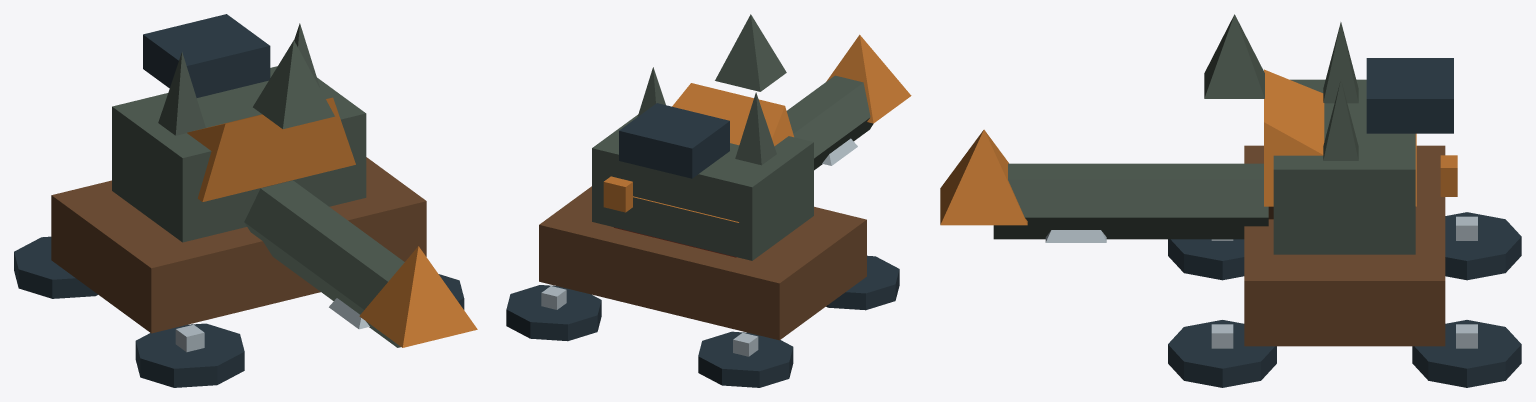
The model's file is battering-ram.obj.
3 views of the same model, side by side, from view 1: azimuth 30°, elevation 25°; view 2: azimuth 150°, elevation 25°; view 3: azimuth 270°, elevation 25° (orthographic). The views are drawn at different scales.
Visible parts, largest first — view 1: siege; view 2: siege; view 3: siege.
Part boxes in pixels (x1,y1,x2,y2): siege: [14, 14, 477, 387]; siege: [506, 14, 911, 387]; siege: [940, 14, 1521, 387].
Bounding box in the file's own units: 1.95 × 1.72 × 3.06.
